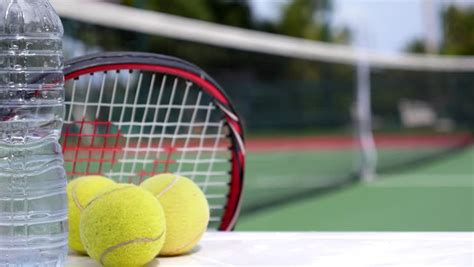tennis_ball: (79, 182, 166, 267), (139, 173, 210, 255), (66, 174, 114, 253)
